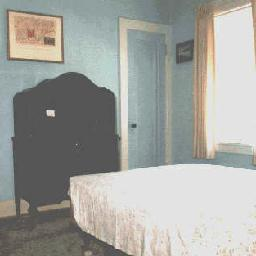Armario: (16, 74, 120, 172)
Cama: (73, 163, 253, 245)
Puerta: (126, 30, 167, 164)
Ventana: (213, 13, 253, 148)
